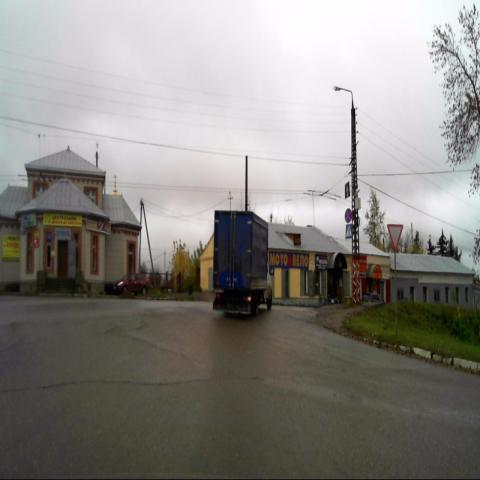2_4: (387, 223, 403, 252)
5_19_1: (345, 224, 353, 239)
